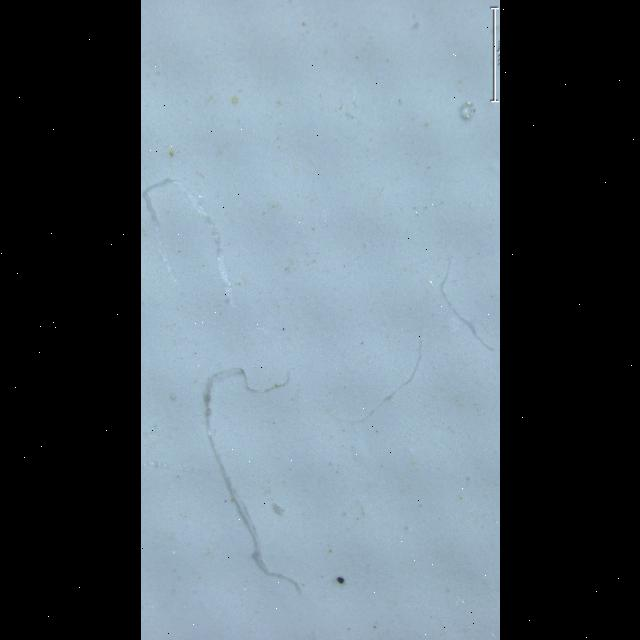Fibre: (204, 368, 300, 594), (142, 179, 237, 309), (333, 339, 422, 424), (441, 257, 496, 351)
Fragment: (460, 102, 475, 119), (271, 504, 284, 516)
